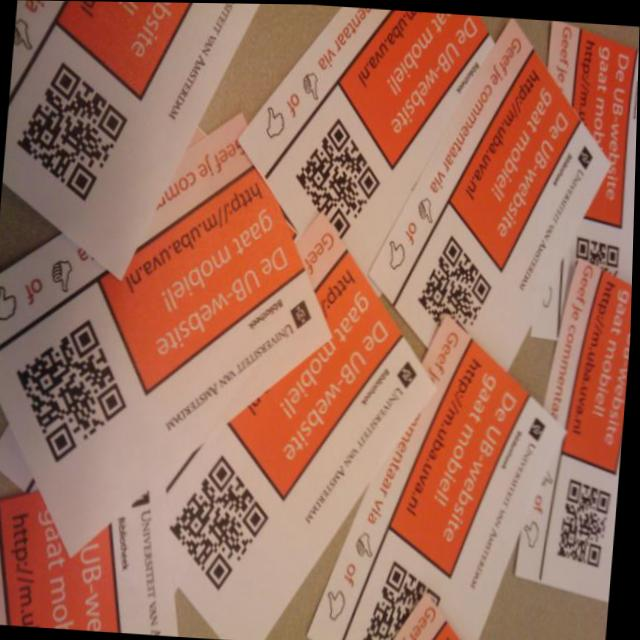qrcode: (12, 315, 135, 467), (13, 59, 133, 205), (167, 451, 277, 593), (292, 115, 385, 240), (417, 232, 497, 331), (366, 558, 432, 640), (559, 477, 616, 567), (576, 235, 622, 272)
